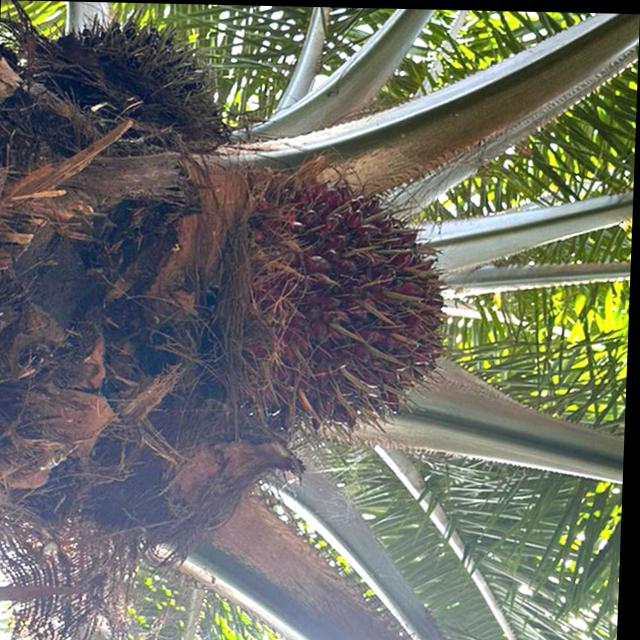ripe: (223, 148, 474, 457)
